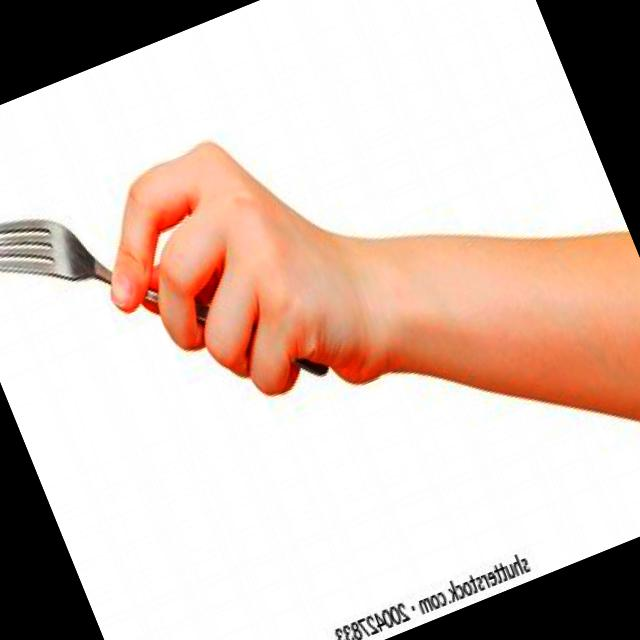fork: (0, 120, 336, 486)
